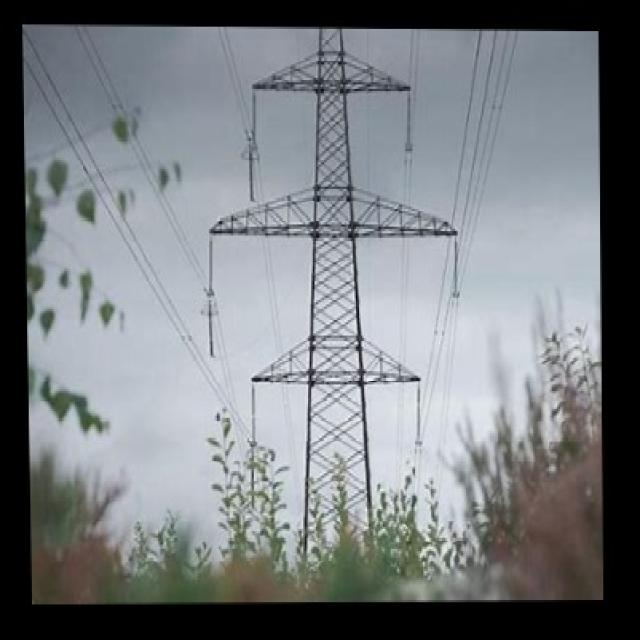utility poles: (203, 344, 469, 600)
